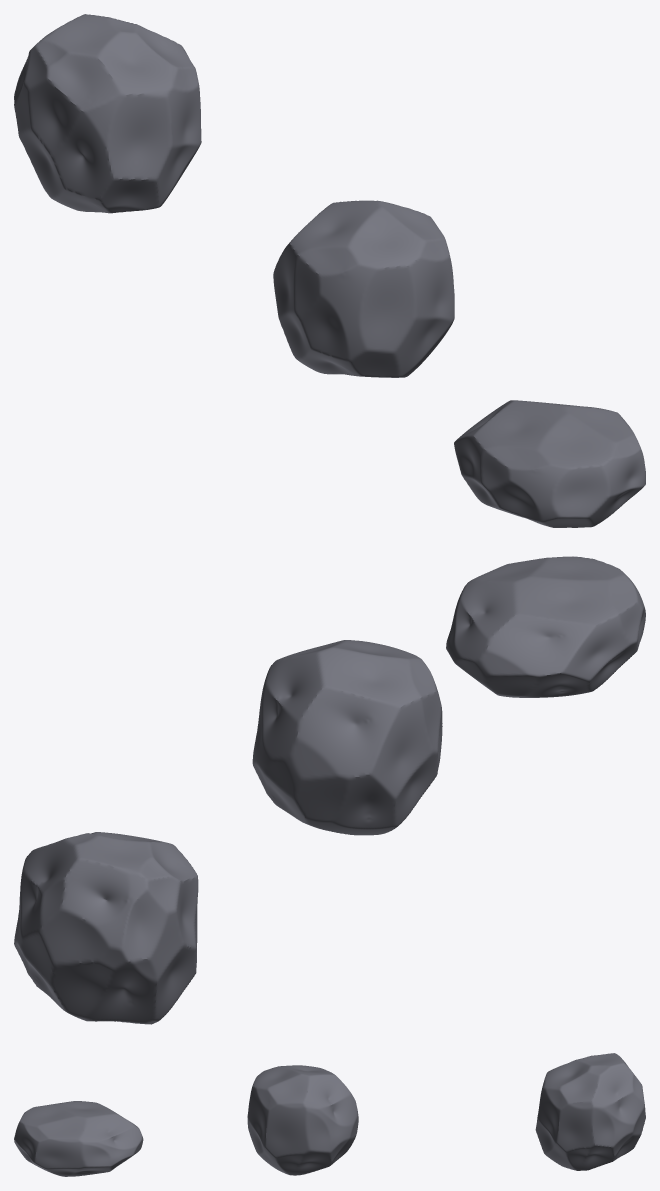
The model's file is rockpack.fbx.
3 renders of one model, top to bottom at view 1: azimuth 30°, elevation 25°; view 2: azimuth 150°, elevation 25°; view 3: azimuth 270°, elevation 25°, orthographic. The views are drawn at different scales.
Visible parts, largest first — view 1: Cube.002, Cube, Cube.001; view 2: Cube, Cube.002, Cube.001; view 3: Cube.002, Cube, Cube.001.
Part boxes in pixels (box(x1,y1,x2,y2)): Cube.002: box(14, 14, 201, 213); Cube: box(273, 200, 454, 377); Cube.001: box(454, 400, 645, 527); Cube: box(252, 640, 442, 835); Cube.002: box(14, 832, 198, 1024); Cube.001: box(446, 556, 645, 697); Cube.002: box(535, 1053, 645, 1170); Cube: box(247, 1065, 358, 1175); Cube.001: box(14, 1101, 143, 1176).
Size of the model in its own units: 88.65 by 86.66 by 485.
